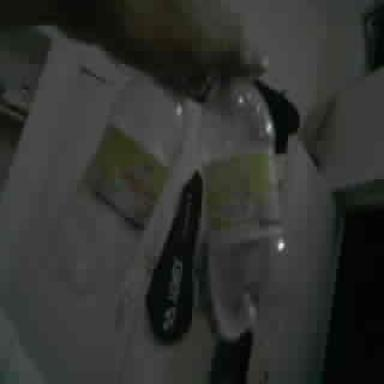bottle: (50, 78, 182, 312), (200, 77, 281, 339)
